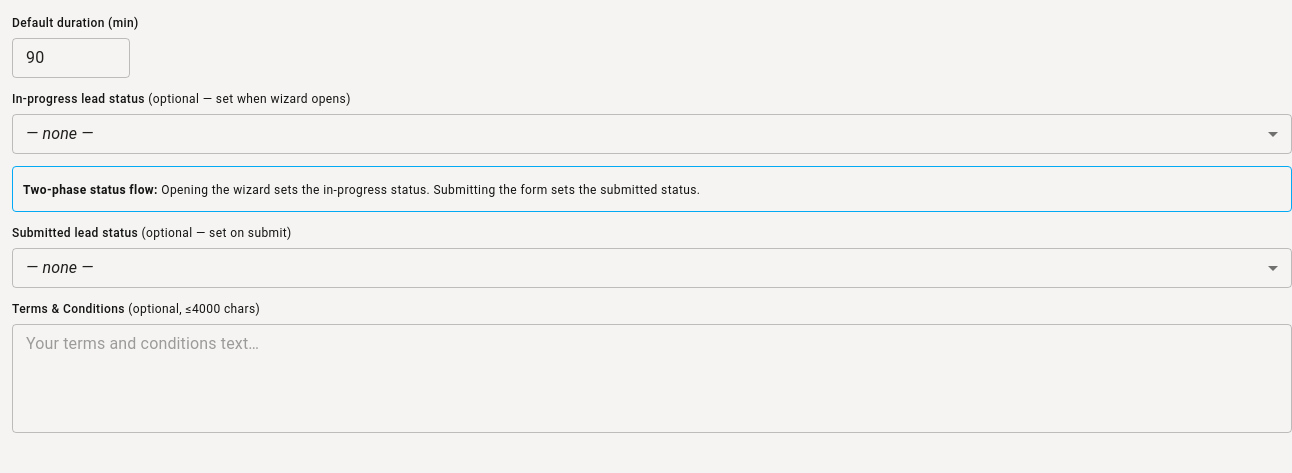
Test: StartDesignVisitConfig › shows duration error for value below 5
Replace the text in the number field with "3" at (71, 58), box top-left (12, 38), bottom-right (130, 78)
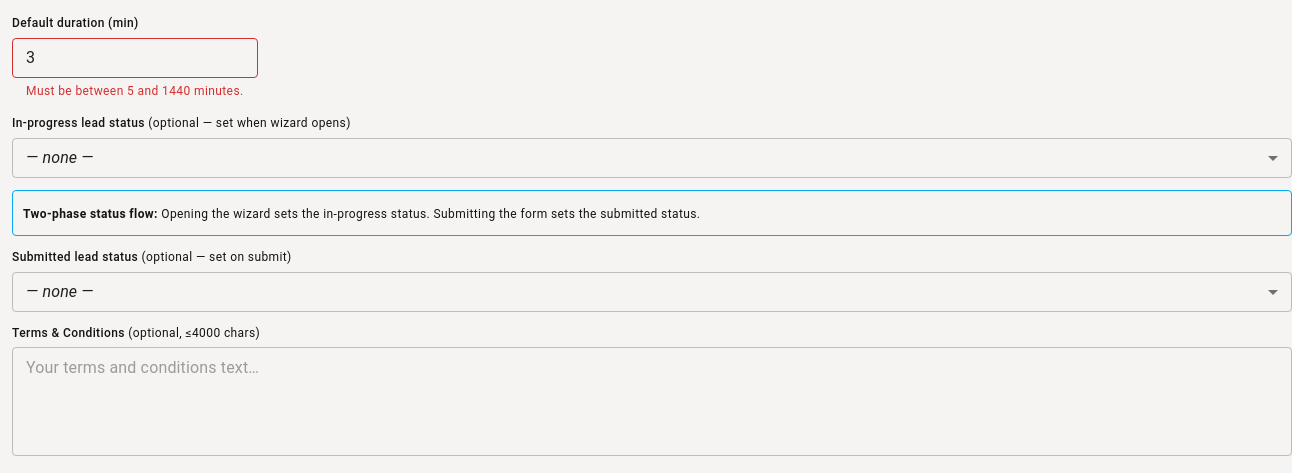
Now the text "Must be between 5 and 1440 minutes." is shown, box top-left (26, 82), bottom-right (244, 102)
